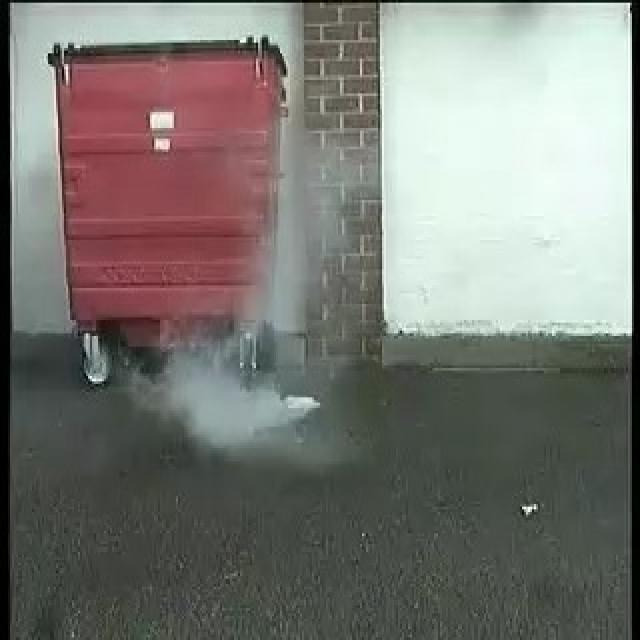smoke: (152, 297, 309, 450)
